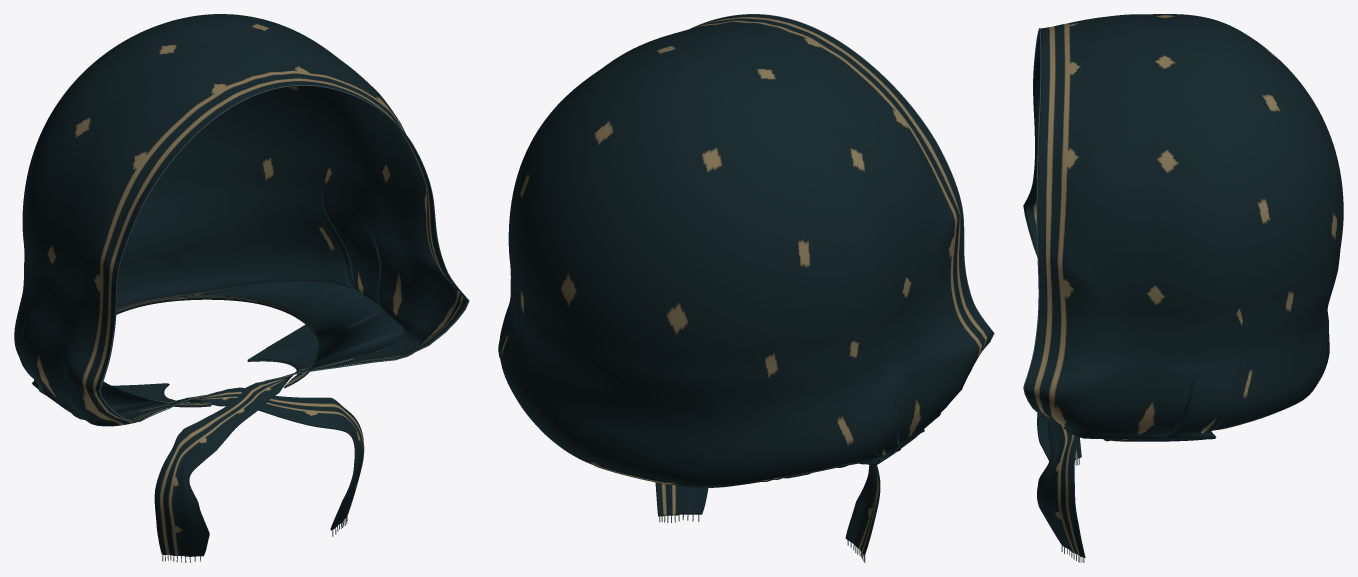
Rendered from Feminine-Feminine-curls-sweatshirt-pashmina250-headgear-5b869d53.glb.
3 renders of one model, left to right at view 1: azimuth 30°, elevation 25°; view 2: azimuth 150°, elevation 25°; view 3: azimuth 270°, elevation 25°, orthographic. The views are drawn at different scales.
Visible parts, largest first — view 1: 226 headgear / Headwear / continuous woven pashmina239, 226 headgear / Headwear / face edge239; view 2: 226 headgear / Headwear / continuous woven pashmina239, 226 headgear / Headwear / face edge239; view 3: 226 headgear / Headwear / continuous woven pashmina239, 226 headgear / Headwear / face edge239.
Boxes of the visible parts, box(x1,y1,x2,y2) form: 226 headgear / Headwear / continuous woven pashmina239: box(14, 14, 468, 556); 226 headgear / Headwear / face edge239: box(99, 85, 469, 421); 226 headgear / Headwear / continuous woven pashmina239: box(498, 14, 993, 555); 226 headgear / Headwear / face edge239: box(690, 14, 994, 350); 226 headgear / Headwear / continuous woven pashmina239: box(1023, 14, 1343, 557); 226 headgear / Headwear / face edge239: box(1023, 28, 1044, 415).
Size of the model in its own units: 1.02 by 1.24 by 0.74.
Materials: 3 (1 with a texture image).
